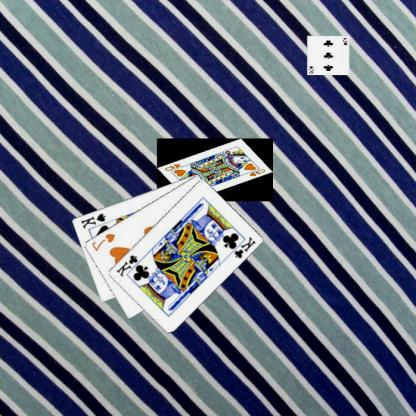7H: (91, 231, 118, 252)
KC: (115, 252, 145, 278), (228, 234, 258, 260)
KS: (80, 210, 108, 230)
